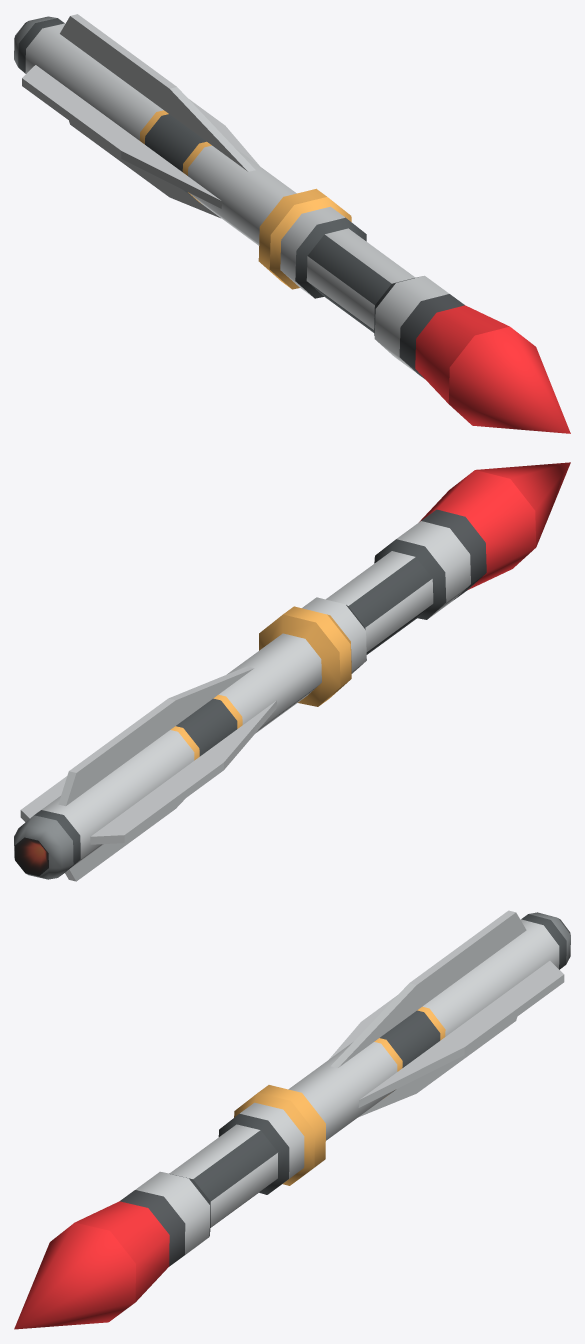
The model's file is Missile_002.glb.
3 views of the same model, one above another, from view 1: azimuth 30°, elevation 25°; view 2: azimuth 150°, elevation 25°; view 3: azimuth 330°, elevation 25° (orthographic).
Visible parts, largest first — view 1: Missile_002; view 2: Missile_002; view 3: Missile_002.
Boxes of the visible parts, x1=… form: Missile_002: x1=14, y1=14, x2=570, y2=433; Missile_002: x1=14, y1=462, x2=570, y2=881; Missile_002: x1=14, y1=910, x2=570, y2=1329.
Bounding box in the file's own units: 0.131 × 0.131 × 1.18.
1 material, 1 textured.
